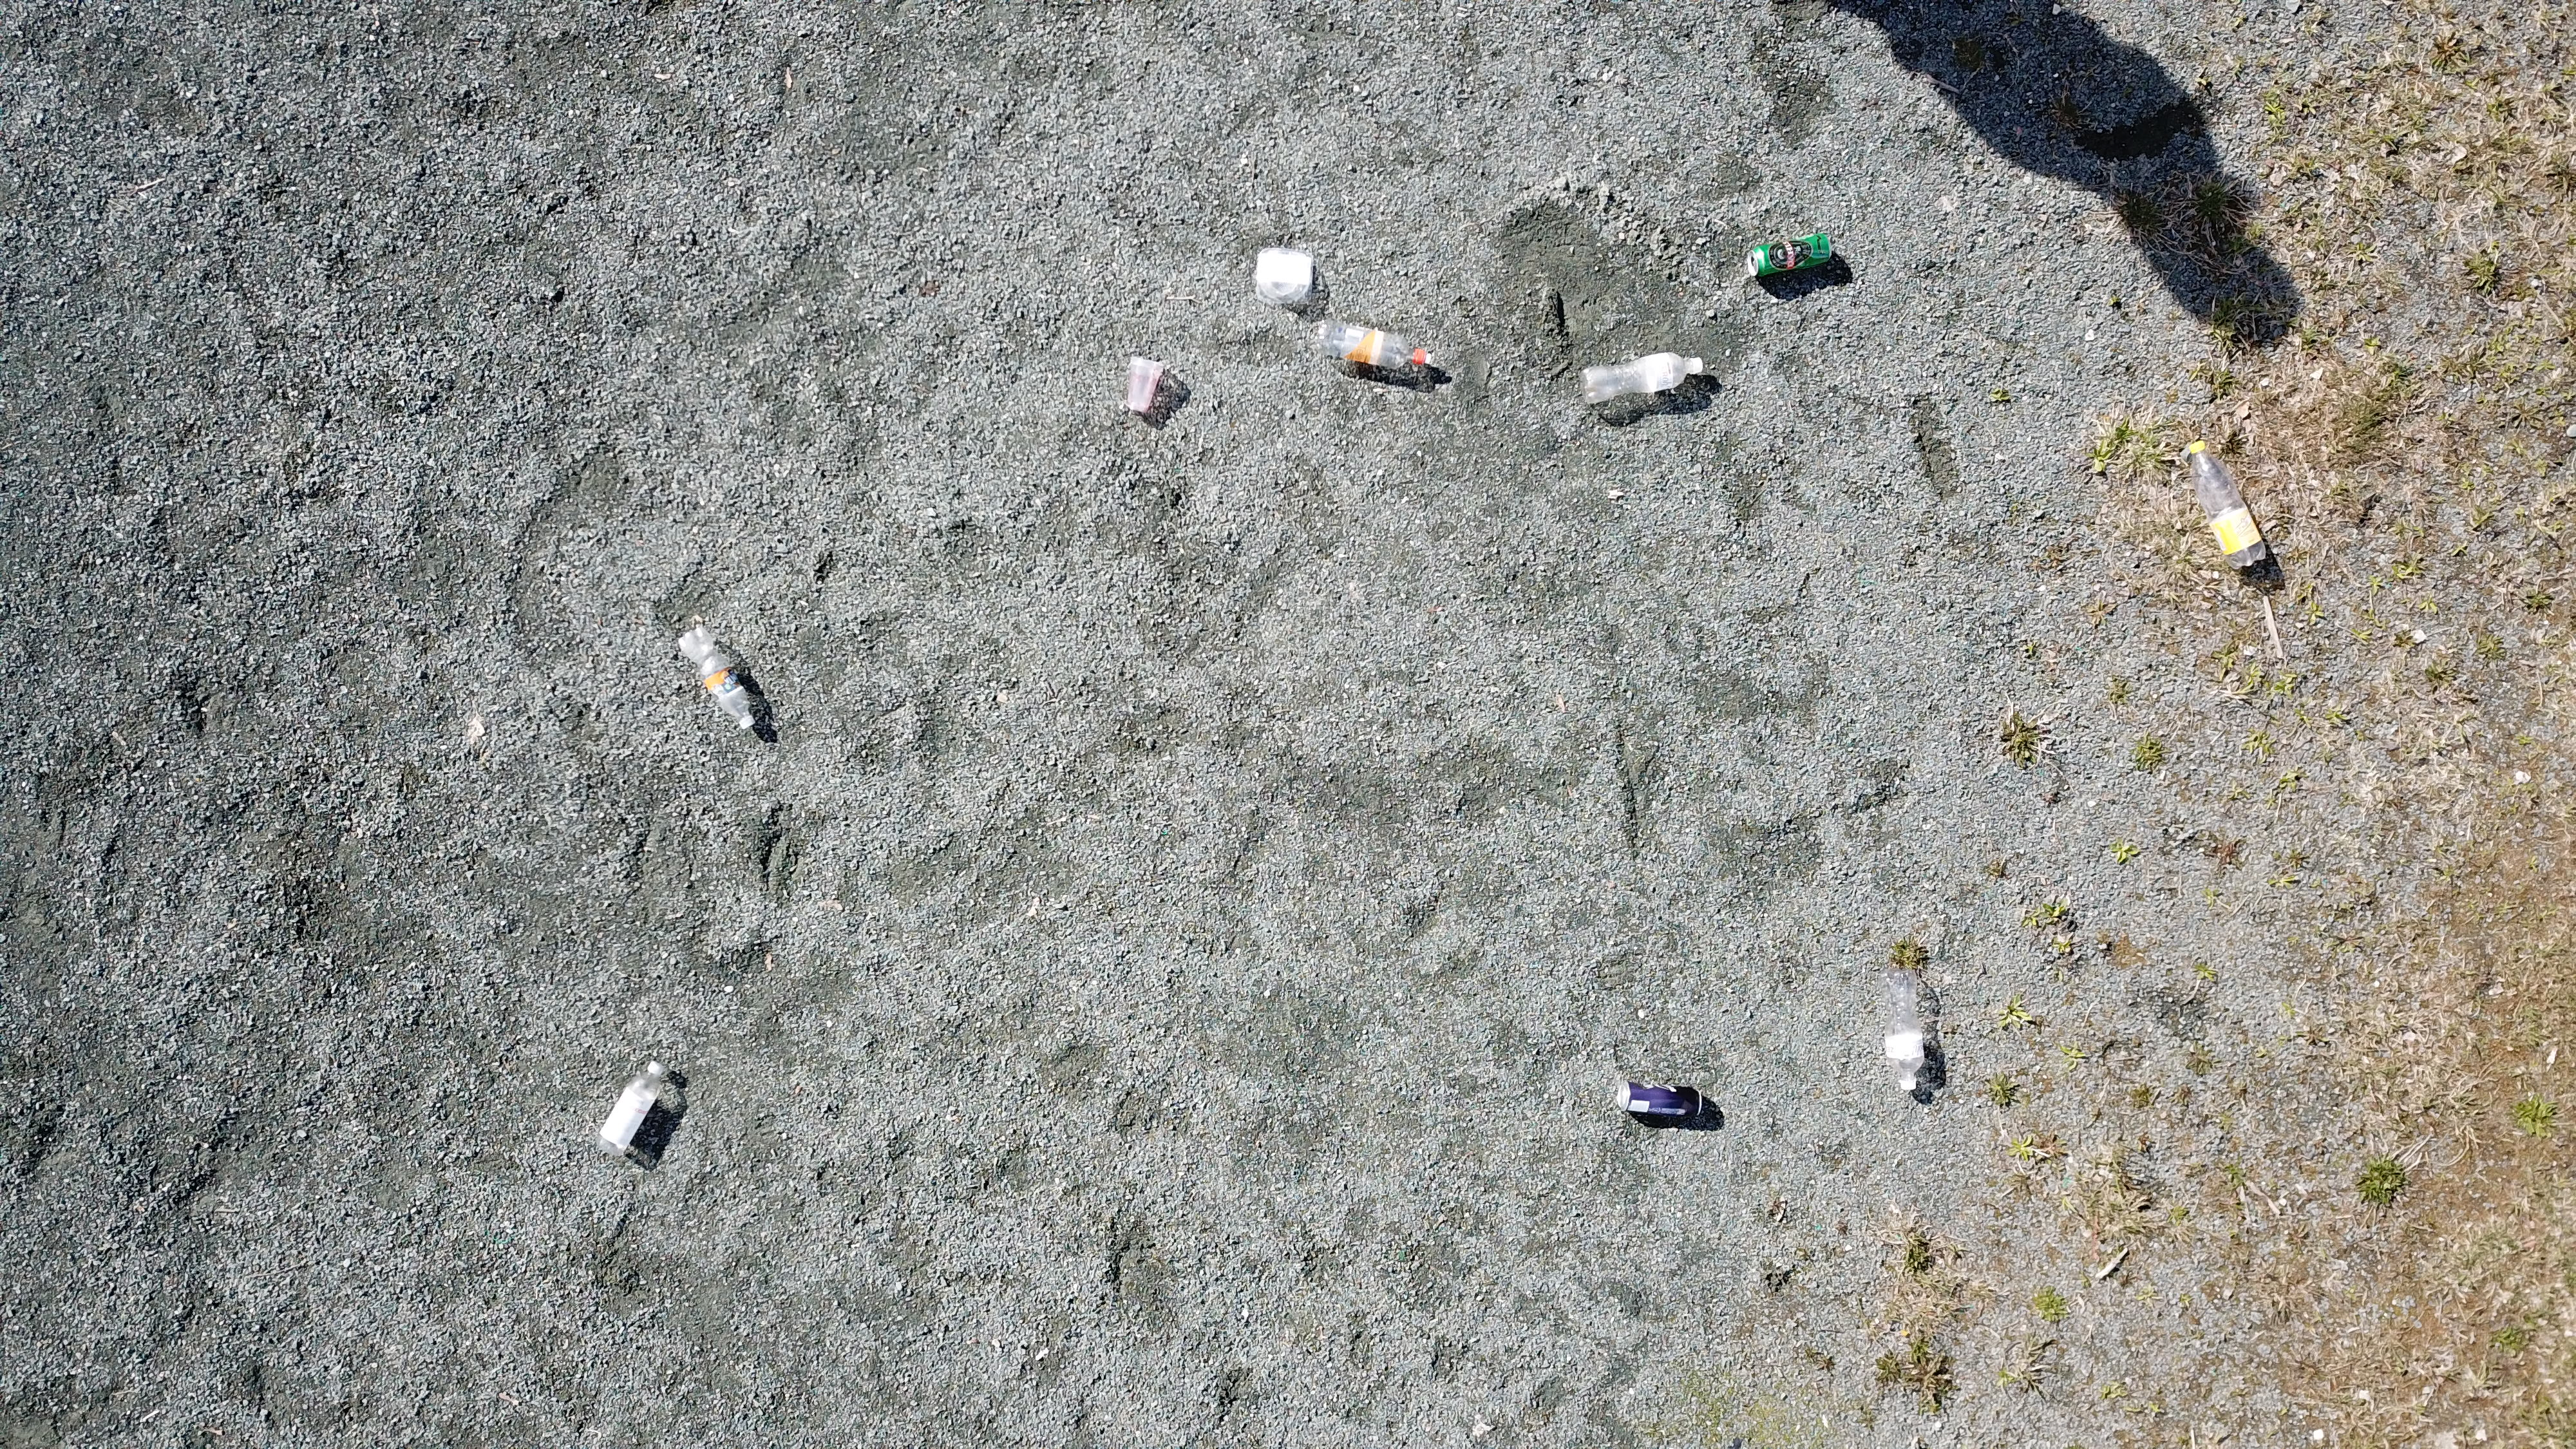Can: (1617, 1076, 1713, 1127), (1746, 228, 1840, 278)
Plastic: (1251, 249, 1323, 308), (1122, 356, 1161, 412)
PlasticBottle: (2189, 435, 2277, 575), (678, 621, 759, 736), (598, 1056, 671, 1159), (1315, 315, 1447, 370), (1874, 962, 1928, 1093), (1575, 350, 1706, 403)
